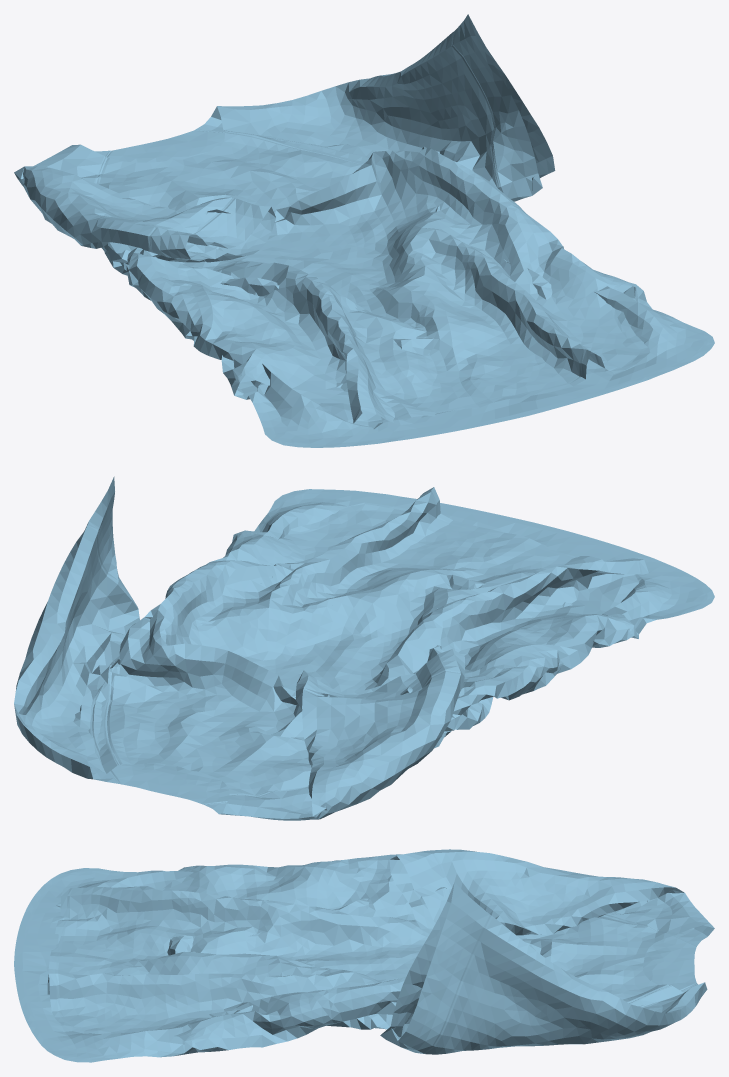
The model's file is frame_09.glb.
3 views of the same model, one above another, from view 1: azimuth 30°, elevation 25°; view 2: azimuth 150°, elevation 25°; view 3: azimuth 270°, elevation 25° (orthographic). The views are drawn at different scales.
Parts seen in each view (by area): view 1: frame_09.obj; view 2: frame_09.obj; view 3: frame_09.obj.
Boxes of the visible parts, left/top/right/bottom form: frame_09.obj: left=14, top=14, right=714, bottom=447; frame_09.obj: left=14, top=476, right=714, bottom=820; frame_09.obj: left=14, top=849, right=714, bottom=1062.
Bounding box in the file's own units: 1.24 × 0.4881 × 1.81.
